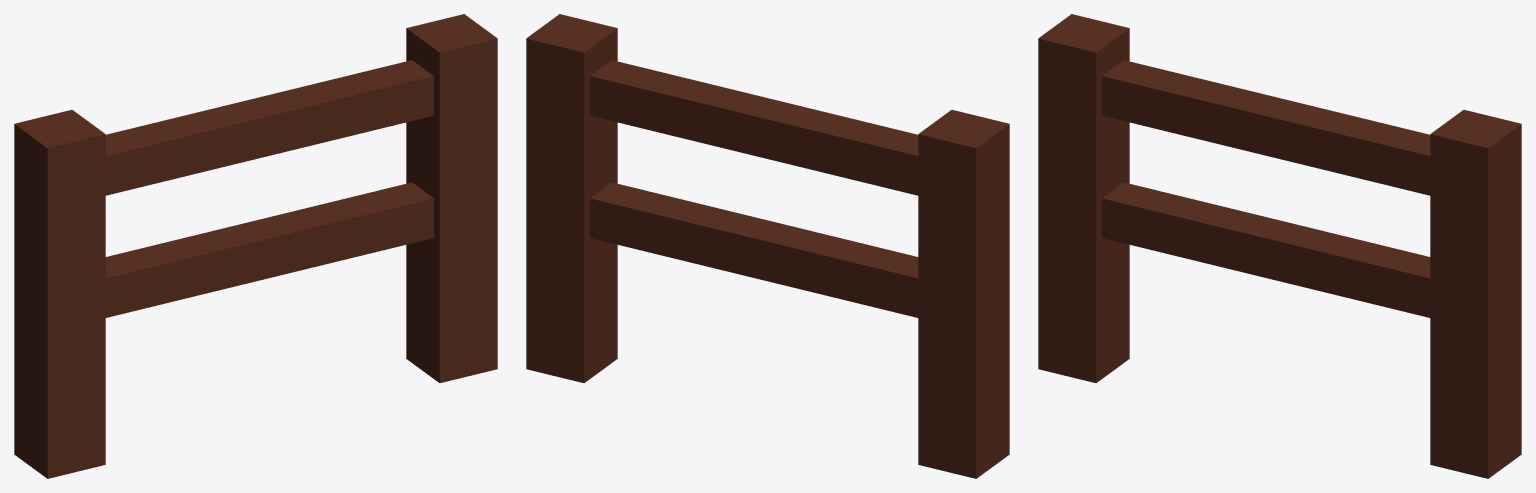
The model's file is Fence.fbx.
The picture shows the model from 3 angles, left to right: view 1: azimuth 30°, elevation 25°; view 2: azimuth 150°, elevation 25°; view 3: azimuth 330°, elevation 25°; orthographic projection.
Visible parts, largest first — view 1: Cube; view 2: Cube; view 3: Cube.
Part boxes in pixels (x1,y1,x2,y2): Cube: (14,14,497,478); Cube: (526,14,1009,478); Cube: (1038,14,1521,478).
Size of the model in its own units: 689 by 484 by 88.82.
